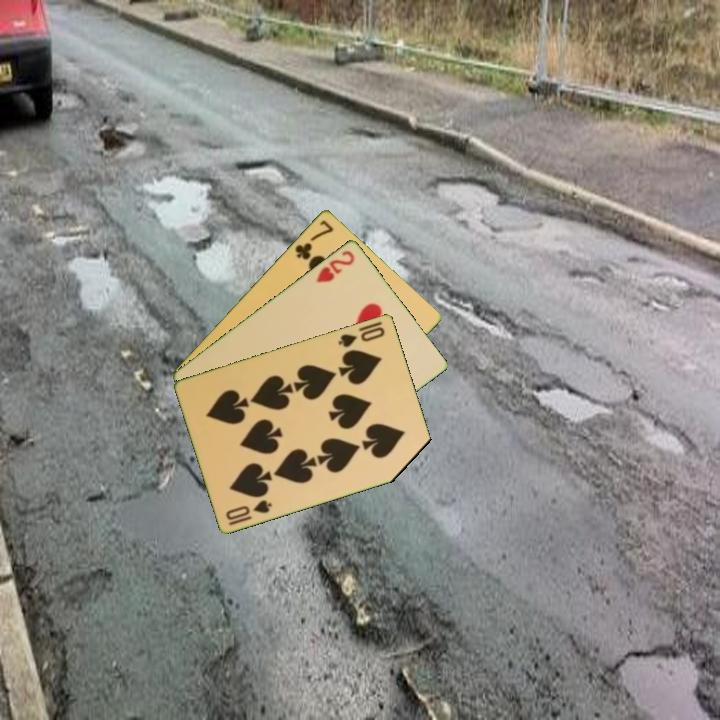10s: (222, 496, 275, 528), (335, 323, 388, 350)
2h: (313, 246, 358, 285)
7c: (291, 216, 336, 263)
